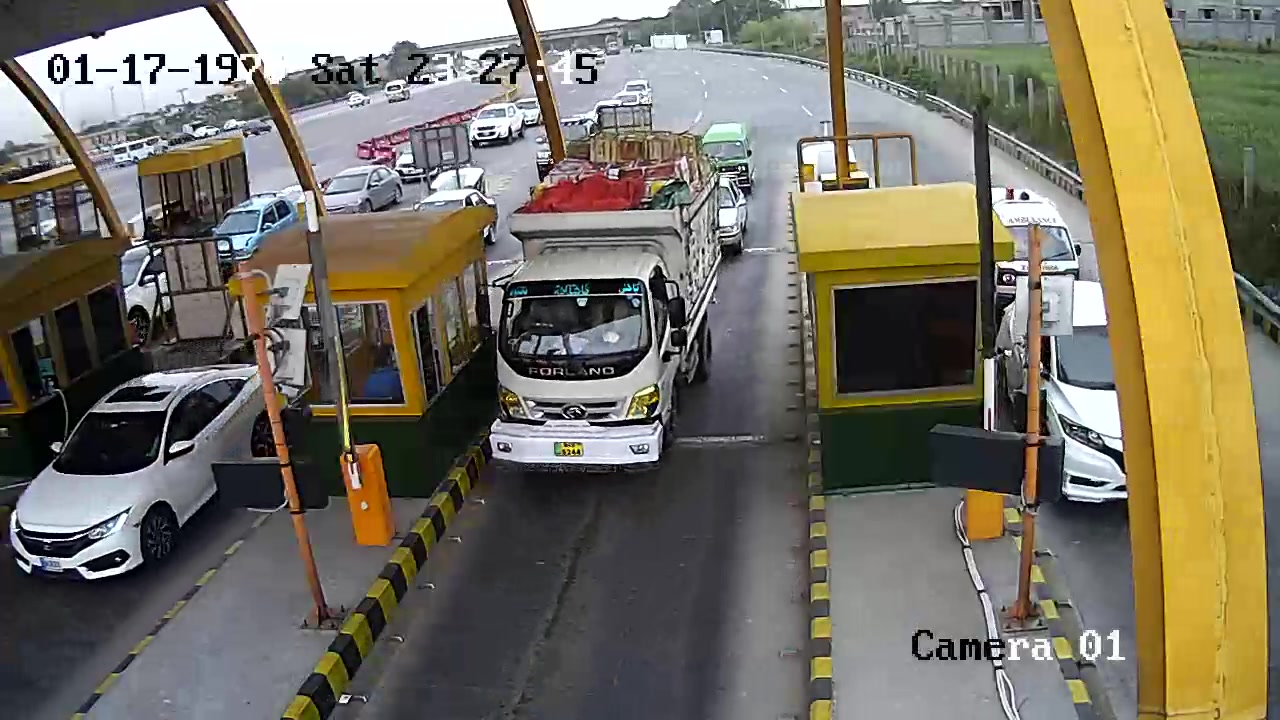F5: (488, 124, 718, 468)
